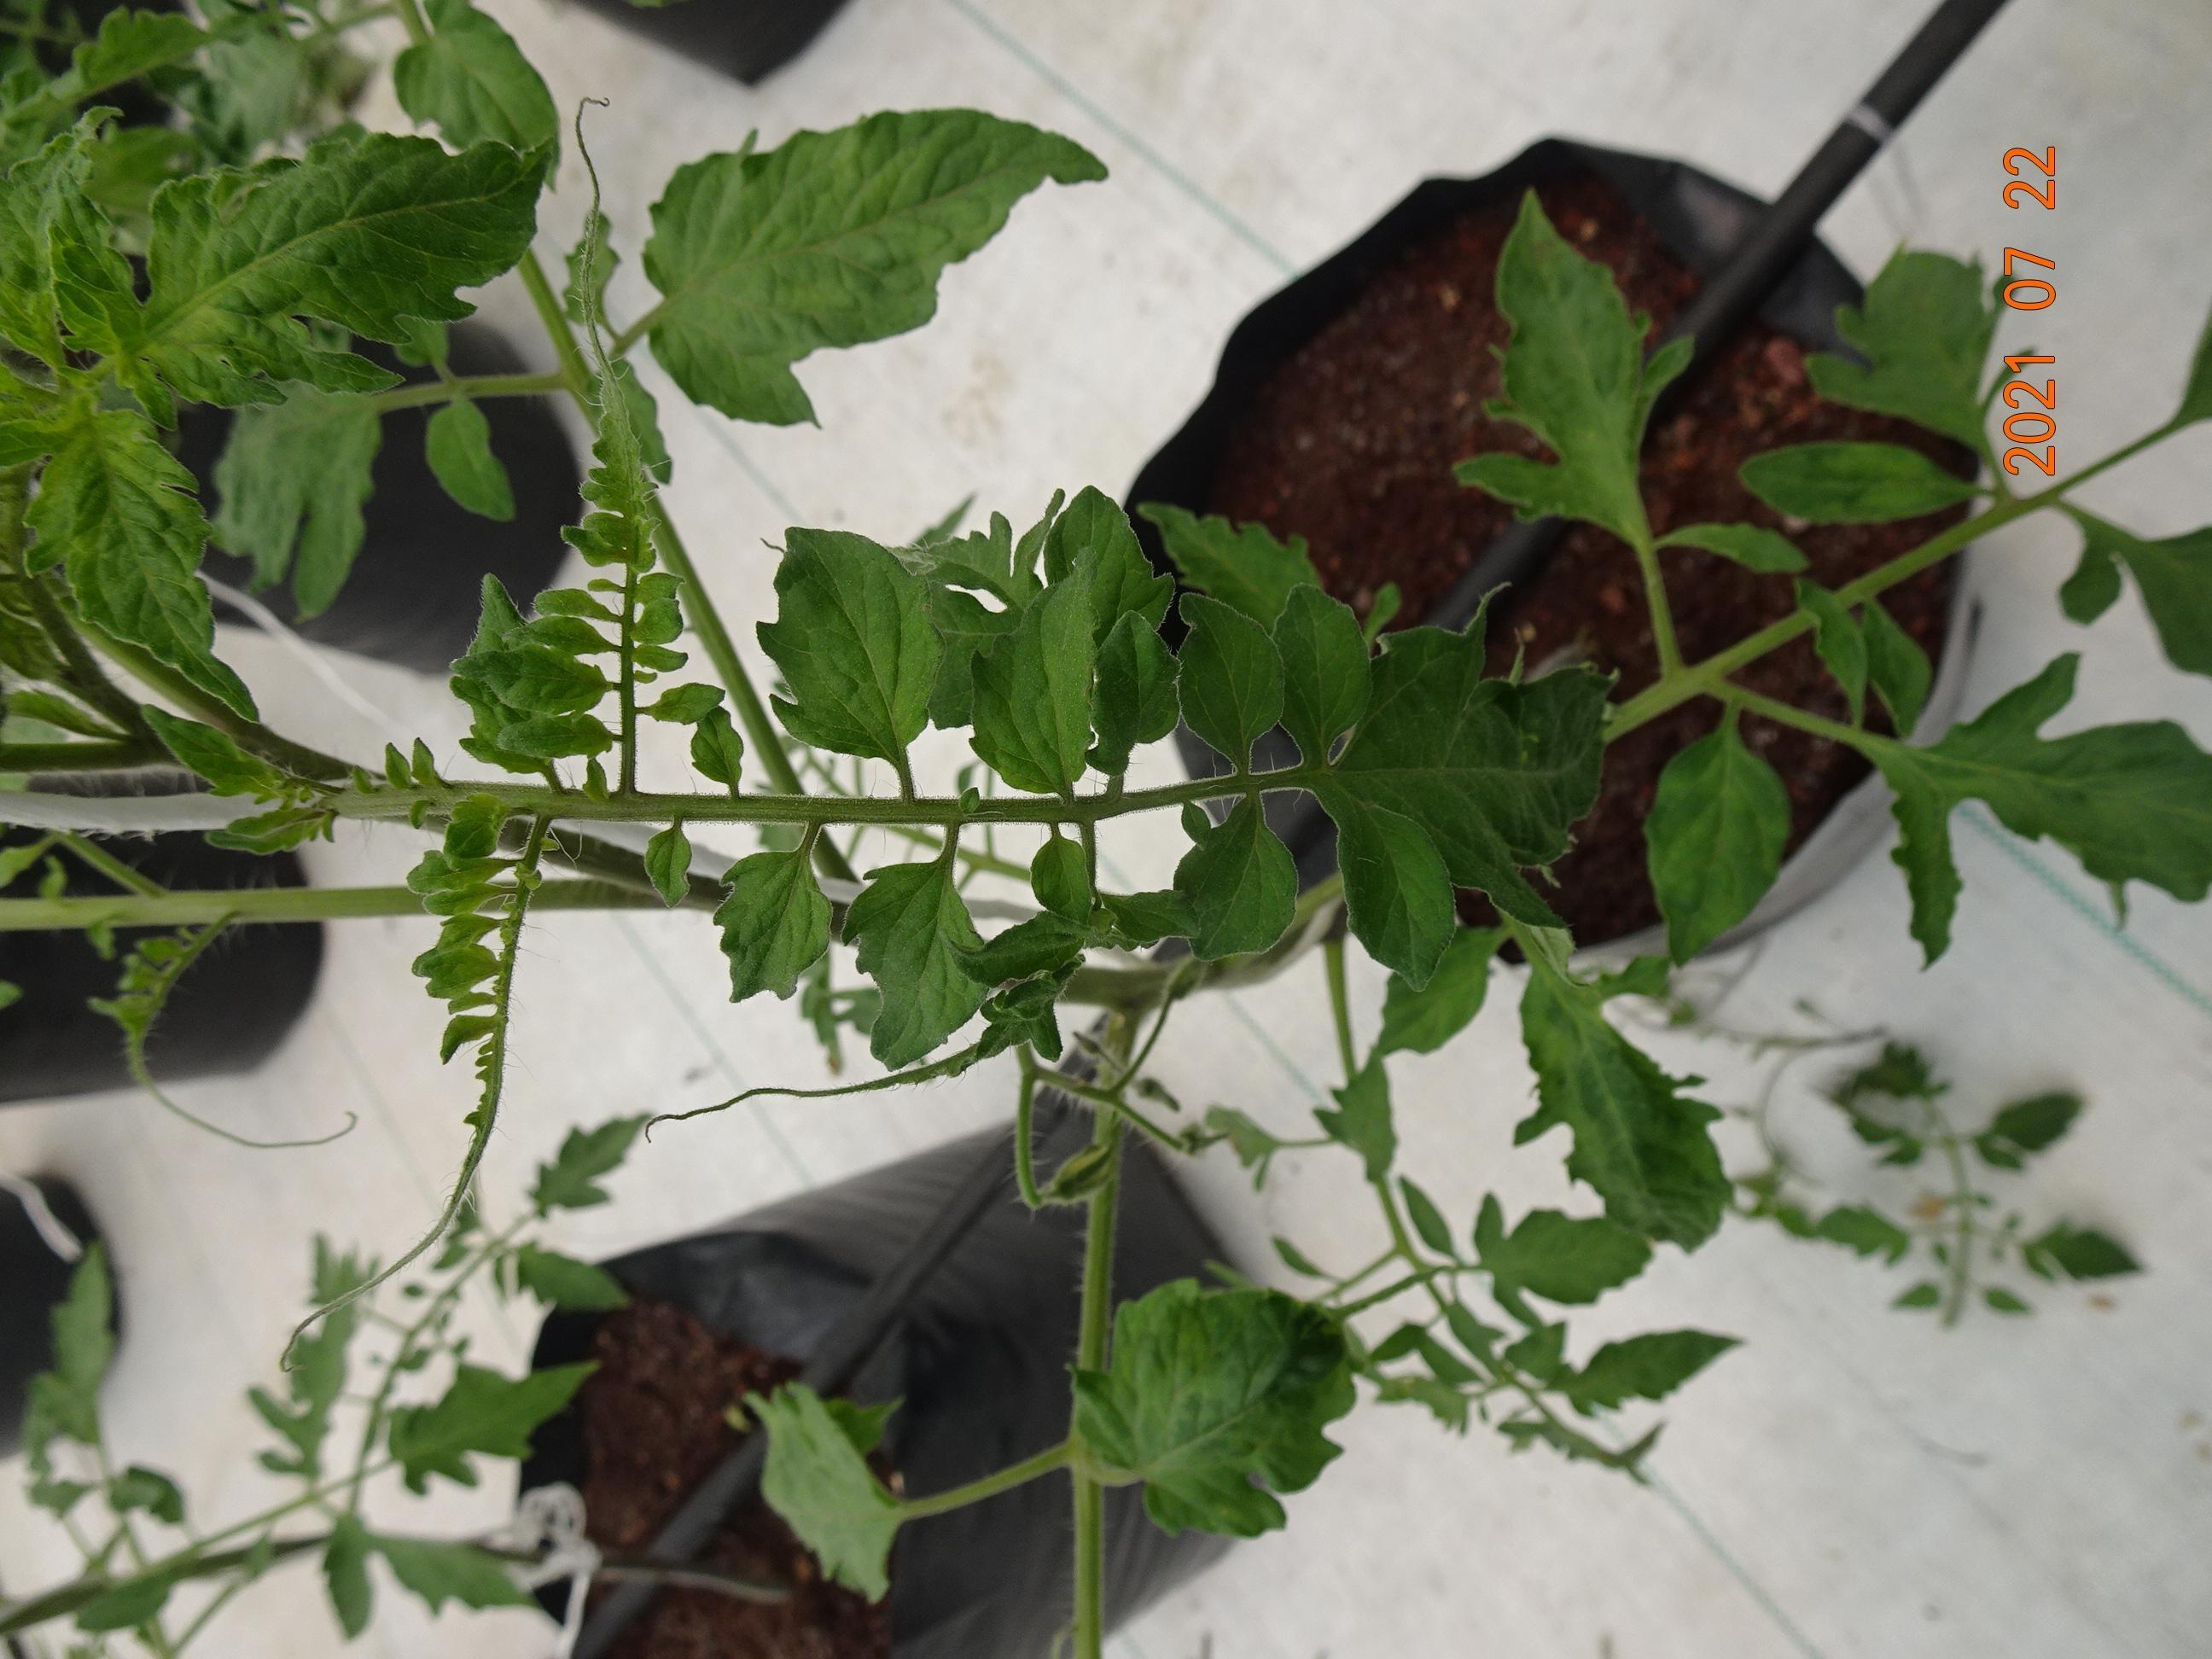Rugose leaf: (143, 134, 540, 406), (26, 406, 251, 713), (756, 526, 937, 800), (843, 833, 986, 1066), (712, 842, 829, 1002)
